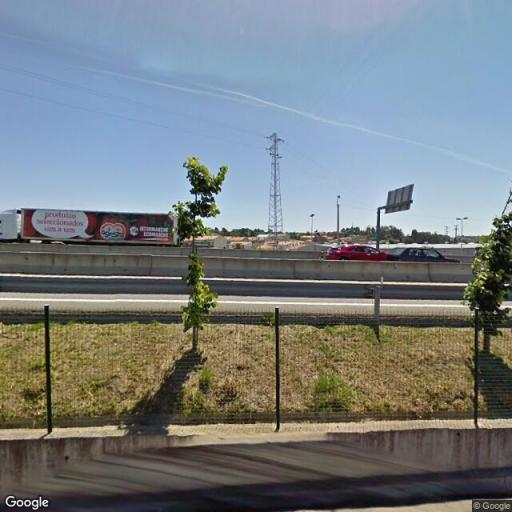ss_4: (266, 127, 288, 233)
